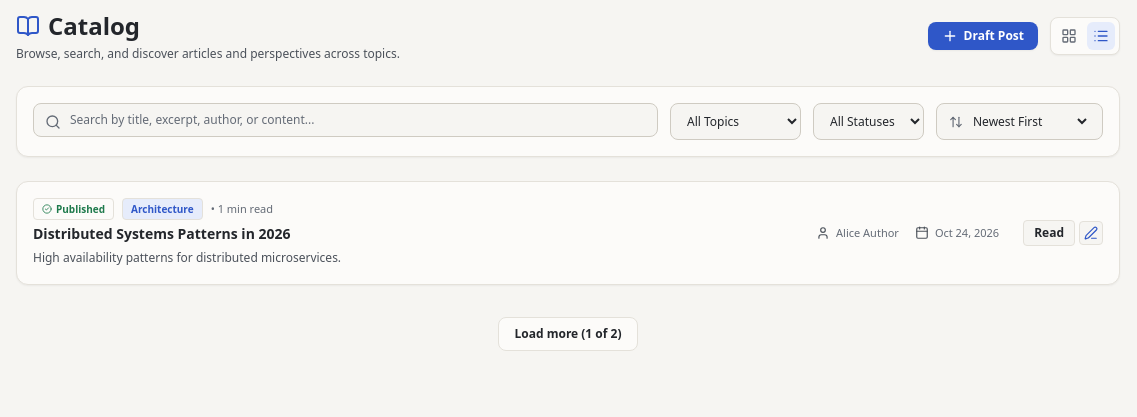
Scenario: Phase C & E: Knowledge Catalog & Reader View Suite › CatalogView Component › loads the next server page without replacing the current catalog
The image size is (1137, 417).
Check: the heading "Distributed Systems Patterns in 2026" is shown, box x1=33 y1=224 x2=290 y2=243
Click the button "Load more (1 of 2)". click: x=568, y=334
box: x1=498 y1=316 x2=638 y2=350
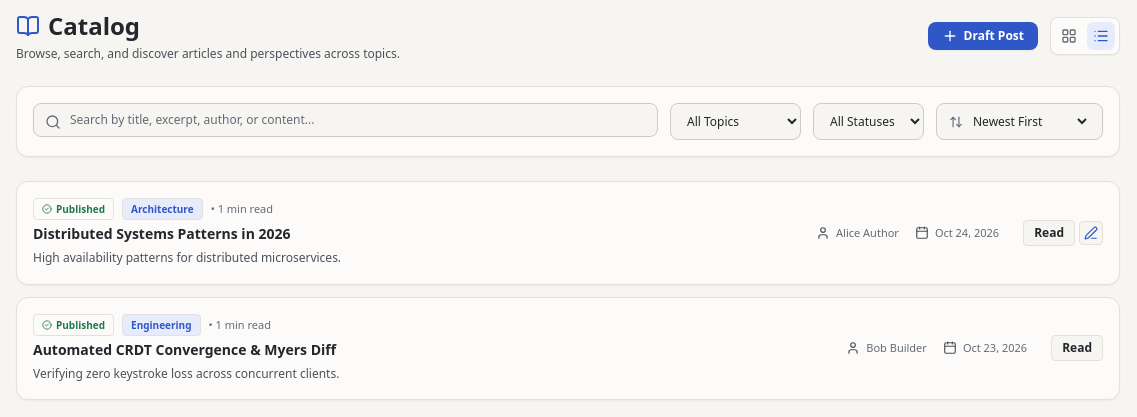
Check: the heading "Automated CRDT Convergence & Myers Diff" is shown, box x1=33 y1=340 x2=336 y2=358
